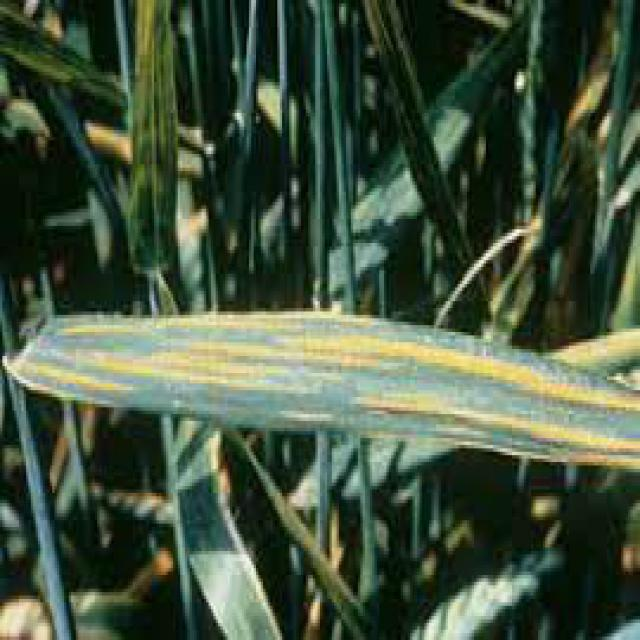wheat-septoria: (3, 311, 640, 474)
